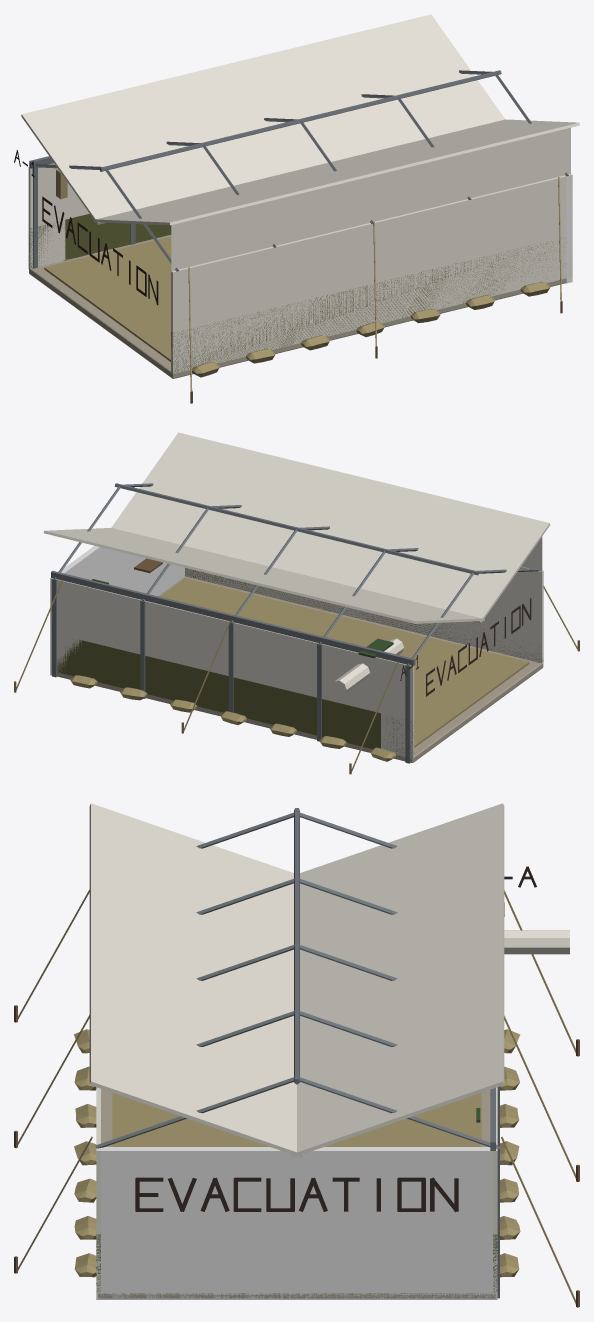
Rendered from evac_tent.glb.
3 views of the same model, one above another, from view 1: azimuth 30°, elevation 25°; view 2: azimuth 150°, elevation 25°; view 3: azimuth 270°, elevation 25° (orthographic). The views are drawn at different scales.
Visible parts, largest first — view 1: evac_tent, evac_tent_end-convcolonly.001; view 2: evac_tent, evac_tent_end-convcolonly.001; view 3: evac_tent, evac_tent_end-convcolonly.001.
Part boxes in pixels (x1,y1,x2,y2): evac_tent: (14, 14, 579, 403); evac_tent_end-convcolonly.001: (566, 175, 572, 283); evac_tent: (14, 432, 579, 774); evac_tent_end-convcolonly.001: (50, 545, 184, 675); evac_tent: (14, 803, 579, 1307); evac_tent_end-convcolonly.001: (96, 1147, 497, 1299).
Size of what is drawn, in the model's own units: 8.45 by 3.06 by 7.05.
Materials: 3 (3 with a texture image).
